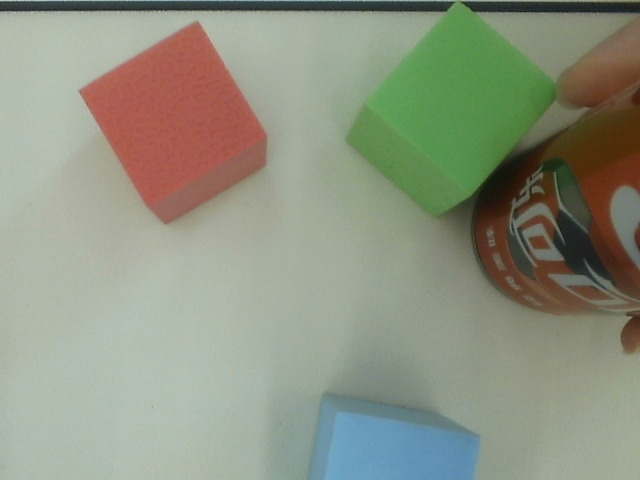bluecube: (304, 389, 484, 480)
cola: (463, 87, 640, 316)
greencube: (336, 1, 559, 221)
redcube: (72, 19, 278, 228)
